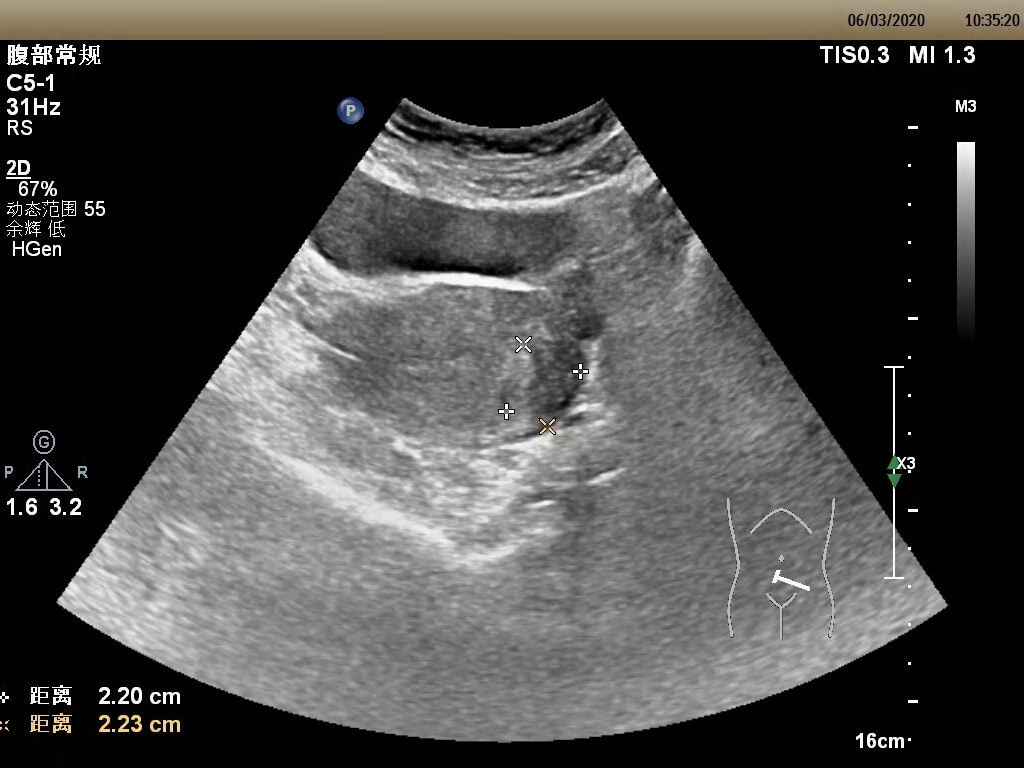肌瘤: (507, 344, 583, 424)
